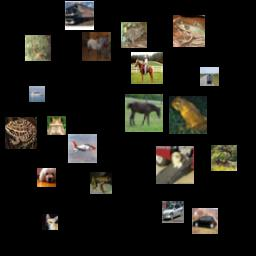airplane: (68, 134, 97, 163)
automobile: (192, 208, 218, 234), (162, 201, 184, 223)
deer: (25, 35, 51, 61), (211, 145, 237, 171)
dog: (156, 146, 194, 184), (37, 168, 56, 187), (42, 214, 58, 230)
frog: (169, 96, 207, 134), (173, 15, 205, 47), (5, 117, 37, 149), (121, 22, 147, 48), (90, 172, 112, 194), (47, 116, 66, 135)
ship: (29, 86, 45, 102)
truck: (65, 1, 94, 30), (200, 67, 219, 86)
